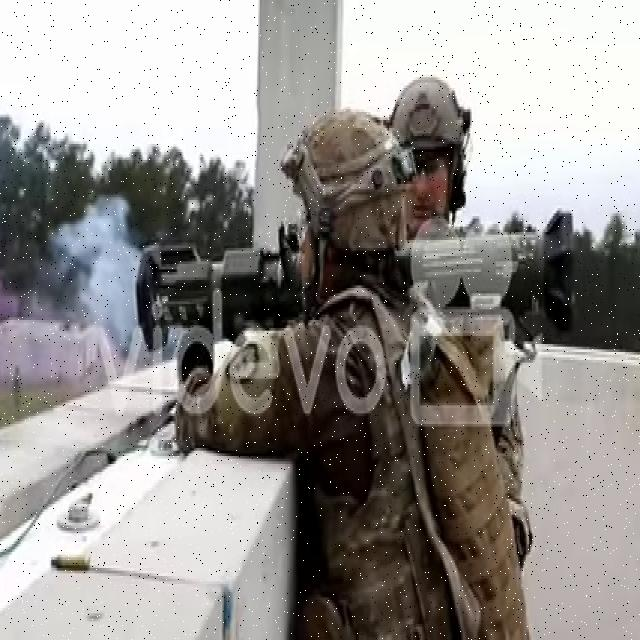bazooka: (136, 210, 583, 357)
